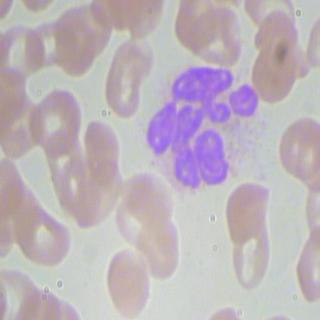RBC: (103, 34, 154, 118), (190, 0, 244, 68), (102, 246, 151, 320), (18, 202, 72, 268), (251, 38, 305, 104), (135, 212, 183, 286), (30, 86, 80, 156), (123, 164, 176, 224), (277, 114, 320, 182), (225, 180, 272, 242), (226, 226, 273, 288), (82, 114, 122, 186), (0, 20, 44, 80), (0, 92, 40, 158), (51, 16, 96, 74), (53, 152, 91, 212)
WBC: (134, 60, 277, 190)
